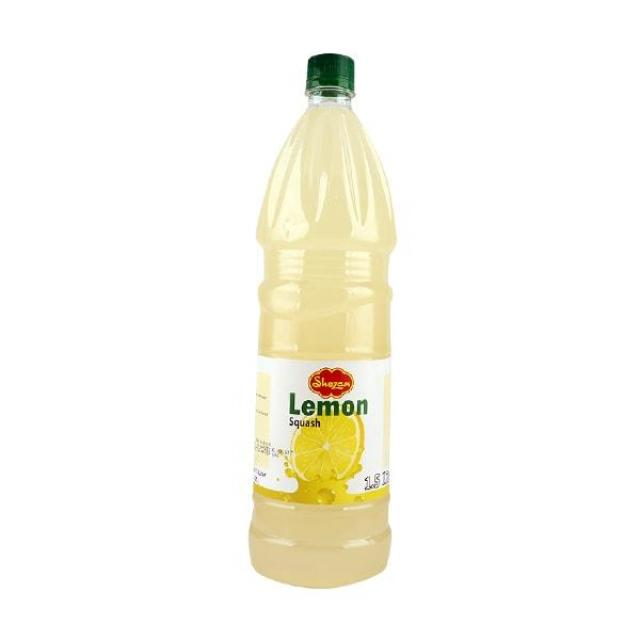plastic_bottle: (255, 51, 397, 593)
